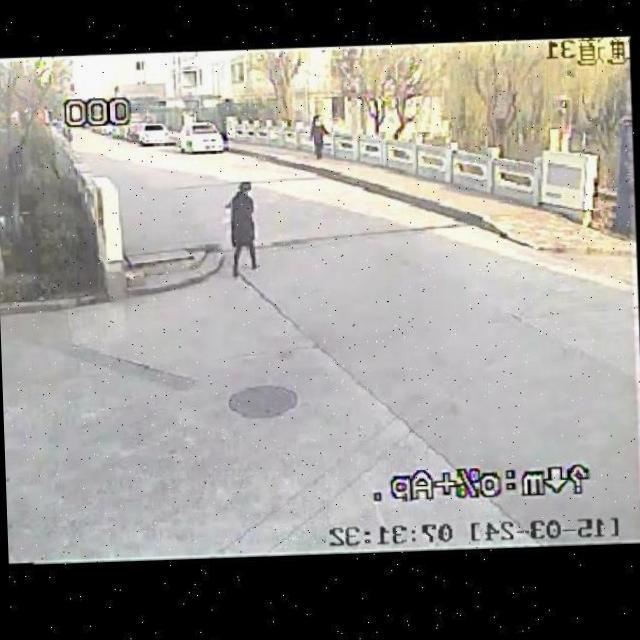person: (212, 170, 270, 280), (300, 101, 336, 170)
